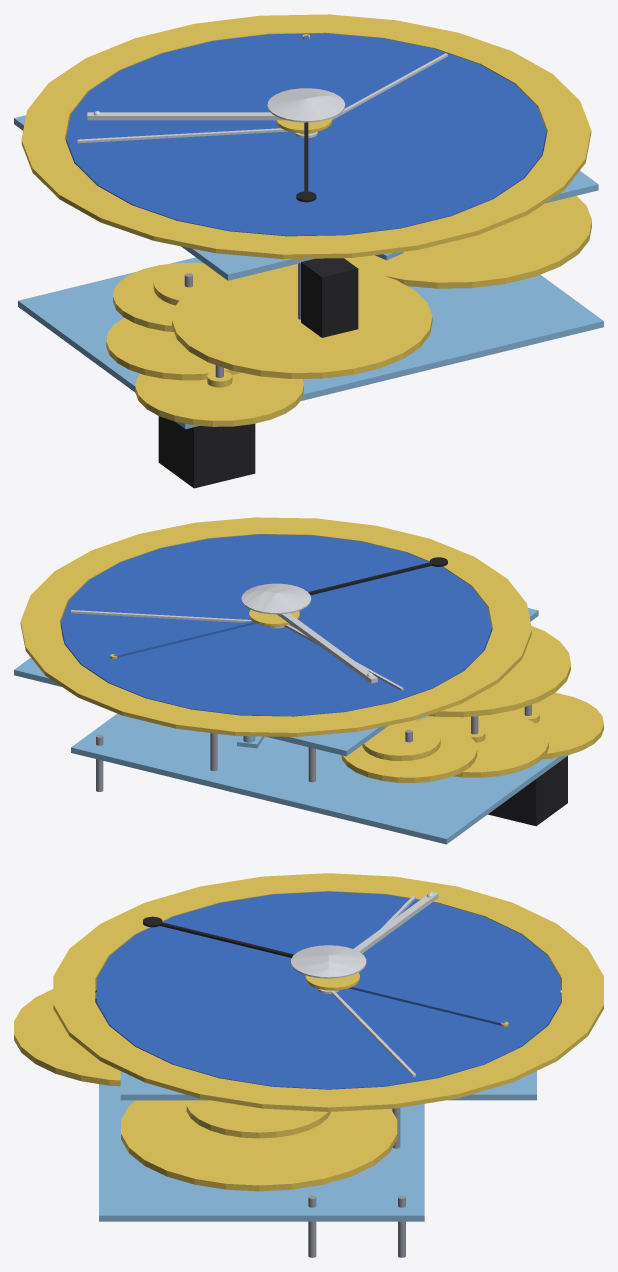
The model's file is m2_main_dial_feasibility.dae.
The picture shows the model from 3 angles, top to bottom: view 1: azimuth 30°, elevation 25°; view 2: azimuth 150°, elevation 25°; view 3: azimuth 270°, elevation 25°; orthographic projection. The views are drawn at different scales.
Parts seen in each view (by area): view 1: dial, calendar_ring, I_154, back_plate, J_169, Y1_99, motor, Y2_97, E6_calendar_motor, Y3_89, front_plate, hemisphere (+4 smaller); view 2: dial, calendar_ring, back_plate, I_154, Y2_97, Y3_89, Y1_99, motor, year_cam, front_plate, hemisphere, hand_moon (+4 smaller); view 3: dial, calendar_ring, back_plate, J_169, I_154, J_88, front_plate, hemisphere, hand_moon, hand_sun, arm_shadow, latitude_cam (+1 smaller).
Part boxes in pixels (box(x1,y1,x2,y2)): dial: box(66, 33, 546, 236); calendar_ring: box(21, 14, 591, 259); I_154: box(172, 264, 432, 378); back_plate: box(18, 257, 603, 429); J_169: box(344, 196, 591, 288); Y1_99: box(135, 372, 303, 426); motor: box(158, 416, 255, 488); Y2_97: box(106, 318, 240, 380); E6_calendar_motor: box(301, 258, 358, 337); Y3_89: box(113, 262, 206, 331); front_plate: box(14, 115, 598, 280); hemisphere: box(267, 88, 345, 122); dial: box(61, 534, 491, 716); calendar_ring: box(20, 517, 531, 736); back_plate: box(71, 713, 567, 844); I_154: box(428, 626, 570, 717); Y2_97: box(420, 712, 548, 777); Y3_89: box(341, 720, 477, 782); Y1_99: box(505, 693, 603, 759); motor: box(488, 756, 567, 826); year_cam: box(362, 722, 440, 761); front_plate: box(14, 608, 538, 756); hemisphere: box(241, 583, 311, 614); hand_moon: box(277, 613, 377, 683); dial: box(96, 891, 560, 1089); calendar_ring: box(53, 873, 603, 1111); back_plate: box(99, 1084, 424, 1221); J_169: box(121, 1100, 397, 1191); I_154: box(14, 989, 120, 1086); J_88: box(186, 1100, 330, 1138); front_plate: box(120, 1071, 536, 1100); hemisphere: box(291, 945, 366, 978); hand_moon: box(353, 891, 438, 953); hand_sun: box(349, 985, 505, 1025); arm_shadow: box(152, 920, 294, 957); latitude_cam: box(305, 972, 359, 990).
Size of the model in its own units: 348 by 363 by 171.
